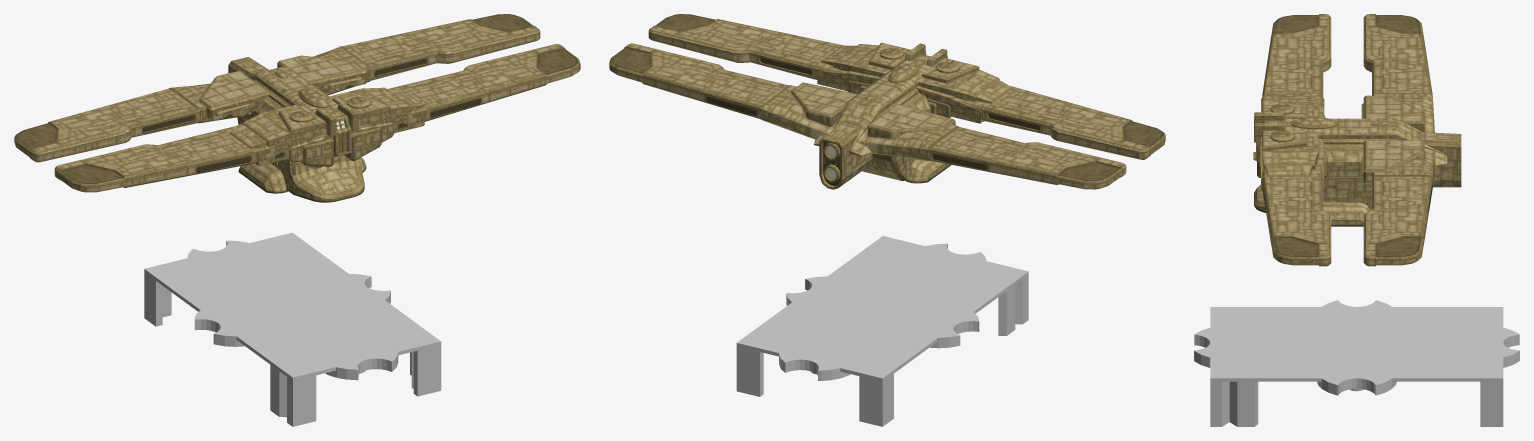
3 views of the same model, side by side, from view 1: azimuth 30°, elevation 25°; view 2: azimuth 150°, elevation 25°; view 3: azimuth 270°, elevation 25° (orthographic).
Visible parts, largest first — view 1: FRIGATE_CIS_C9979, Base_-_Small_Plane.001; view 2: FRIGATE_CIS_C9979, Base_-_Small_Plane.001; view 3: FRIGATE_CIS_C9979, Base_-_Small_Plane.001.
Boxes of the visible parts, left/top/right/bottom form: FRIGATE_CIS_C9979: left=14, top=14, right=580, bottom=202; Base_-_Small_Plane.001: left=144, top=232, right=441, bottom=426; FRIGATE_CIS_C9979: left=609, top=14, right=1165, bottom=189; Base_-_Small_Plane.001: left=736, top=236, right=1028, bottom=426; FRIGATE_CIS_C9979: left=1253, top=14, right=1461, bottom=266; Base_-_Small_Plane.001: left=1194, top=300, right=1519, bottom=426.
Size of the model in its own units: 5.5 by 2.87 by 3.11.
2 materials, 1 textured.
